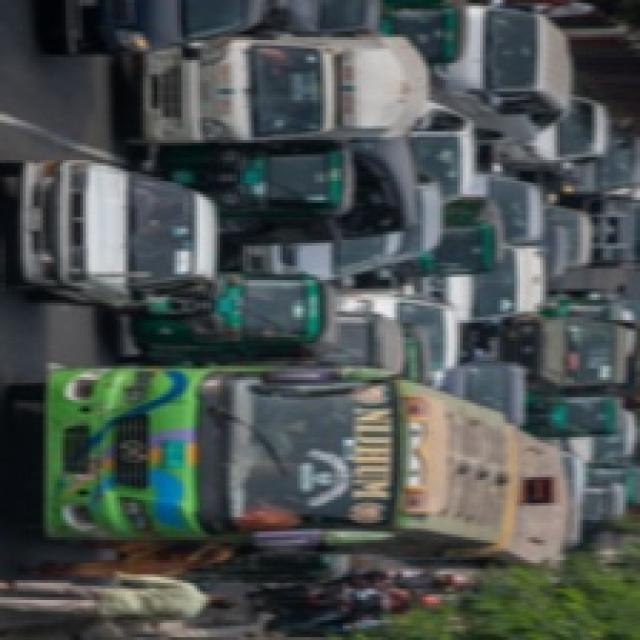car: (10, 175, 219, 307), (31, 1, 280, 59), (418, 241, 552, 328), (491, 97, 607, 167), (452, 176, 549, 242)
